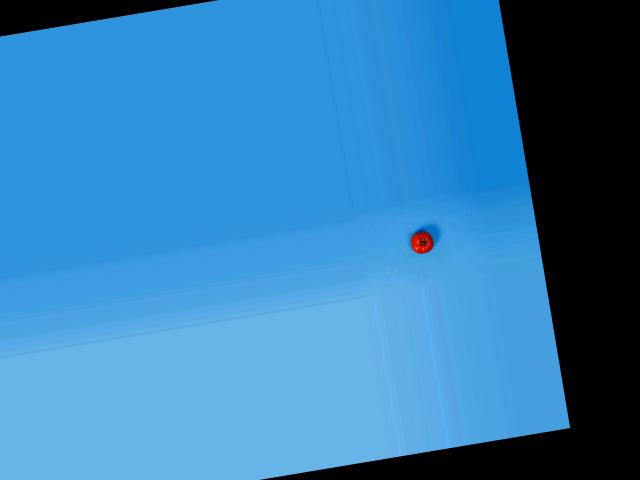tomato: (409, 229, 436, 255)
